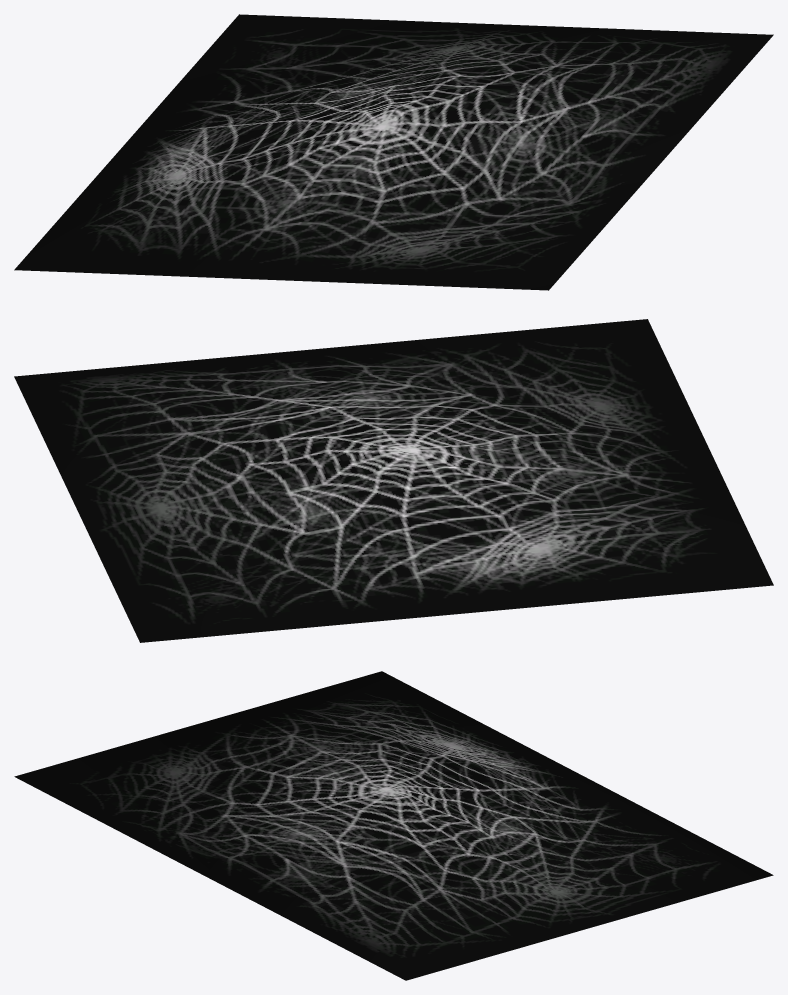
Rendered from MIRKWOOD_PLANE07.fbx.
3 renders of one model, top to bottom at view 1: azimuth 30°, elevation 25°; view 2: azimuth 150°, elevation 25°; view 3: azimuth 270°, elevation 25°, orthographic. The views are drawn at different scales.
Parts seen in each view (by area): view 1: MIRKWOOD_PLANE07; view 2: MIRKWOOD_PLANE07; view 3: MIRKWOOD_PLANE07.
Part boxes in pixels (<box>): MIRKWOOD_PLANE07: <box>14,14,773,290</box>; MIRKWOOD_PLANE07: <box>14,319,773,642</box>; MIRKWOOD_PLANE07: <box>14,671,773,980</box>.
Size of the model in its own units: 296359 by 23333 by 277161.
1 material, 1 textured.
